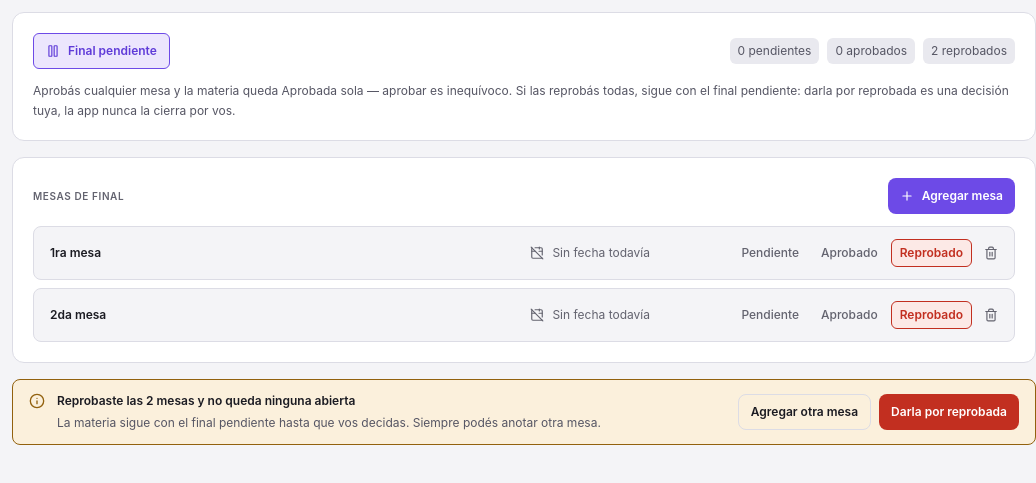
Test case: FinalesContainer › says why the mesa could not be deleted instead of failing silently
Click the button named "Borrar 1ra mesa": (991, 253) [976,238,1006,268]
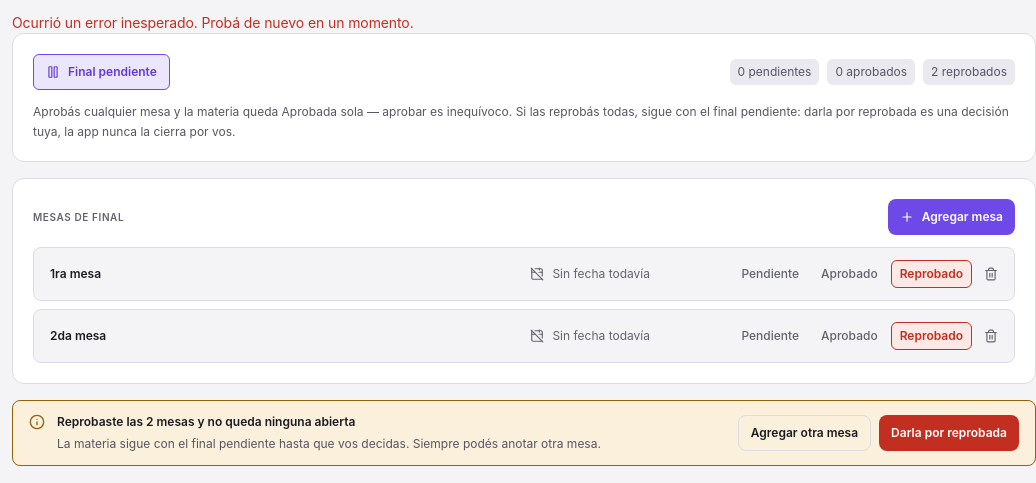
Expected: the text "Ocurrió un error inesperado. Probá de nuevo en un momento." is shown, [12,14,414,31]
